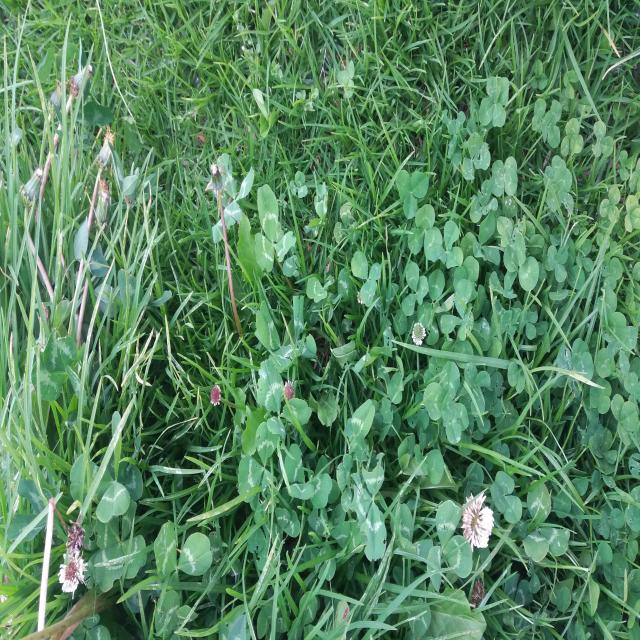Four Leaf Clover: (479, 76, 510, 128), (489, 156, 518, 197)
